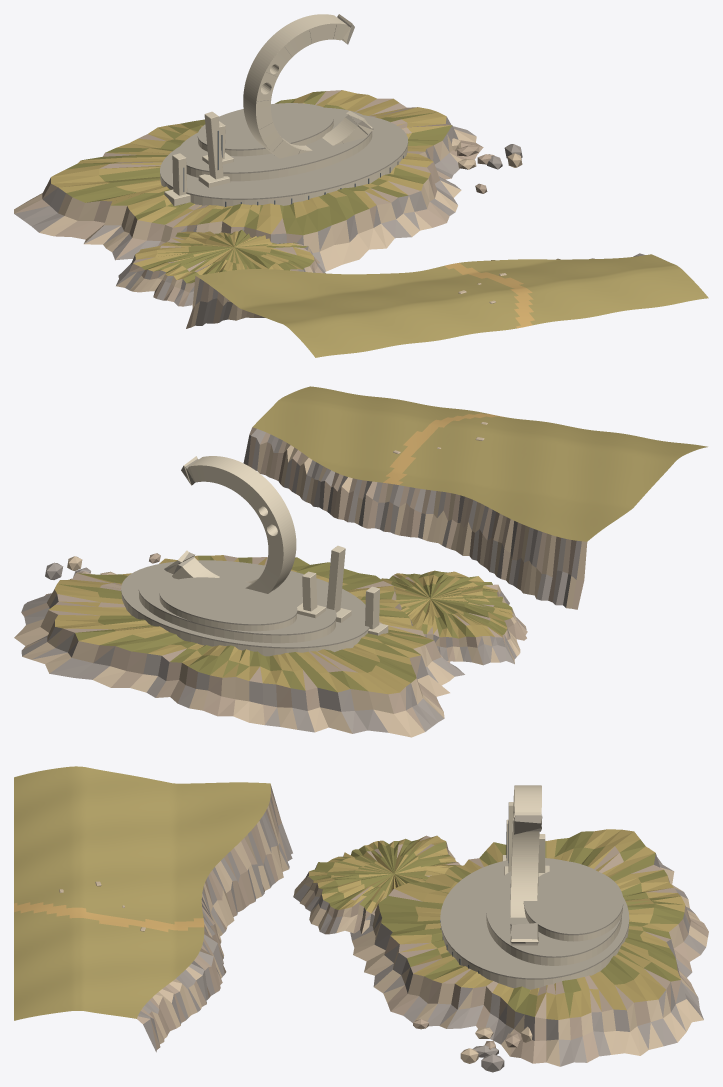
The model's file is title_coast.glb.
3 views of the same model, one above another, from view 1: azimuth 30°, elevation 25°; view 2: azimuth 150°, elevation 25°; view 3: azimuth 270°, elevation 25° (orthographic). The views are drawn at different scales.
Visible parts, largest first — view 1: Layered rocky headland, TitleMeadow, Low approach spur, Broken observation ring, Roof seam, Roof seam.002, Roof seam.001, Foreland strata, Terraced concrete podium, Terraced concrete podium.001, Split buttress, Split buttress.001 (+1 smaller); view 2: Layered rocky headland, TitleMeadow, Foreland strata, Low approach spur, Broken observation ring, Roof seam.002, Roof seam, Roof seam.001, Terraced concrete podium.001, Terraced concrete podium, Split buttress, Terraced concrete podium.002 (+2 smaller); view 3: TitleMeadow, Layered rocky headland, Foreland strata, Low approach spur, Roof seam, Roof seam.002, Broken observation ring, Roof seam.001, Terraced concrete podium, Terraced concrete podium.001, Terraced concrete podium.002.
Boxes of the visible parts, x1,y1,x2,y2 form: Layered rocky headland: (14, 90, 483, 271); TitleMeadow: (196, 254, 708, 357); Low approach spur: (116, 230, 325, 306); Broken observation ring: (243, 14, 373, 158); Roof seam: (160, 115, 408, 199); Roof seam.002: (197, 103, 333, 150); Roof seam.001: (177, 107, 372, 173); Foreland strata: (186, 253, 645, 328); Terraced concrete podium: (160, 146, 407, 206); Terraced concrete podium.001: (186, 131, 372, 181); Split buttress: (204, 111, 223, 179); Split buttress.001: (172, 153, 187, 195); Layered rocky headland: (14, 555, 464, 737); TitleMeadow: (252, 386, 707, 541); Foreland strata: (243, 427, 587, 609); Low approach spur: (381, 570, 527, 665); Broken observation ring: (164, 456, 296, 593); Roof seam.002: (159, 577, 297, 625); Roof seam: (121, 560, 369, 648); Roof seam.001: (138, 568, 336, 635); Terraced concrete podium.001: (139, 592, 335, 643); Terraced concrete podium: (121, 594, 367, 656); Split buttress: (326, 545, 345, 612); Terraced concrete podium.002: (159, 596, 296, 631); TitleMeadow: (14, 766, 270, 1020); Layered rocky headland: (350, 829, 708, 1066); Foreland strata: (137, 784, 292, 1052); Low approach spur: (293, 835, 461, 934); Roof seam: (440, 858, 629, 979); Roof seam.002: (523, 867, 623, 935); Broken observation ring: (510, 785, 542, 945); Roof seam.001: (486, 860, 621, 957); Terraced concrete podium: (441, 925, 628, 989); Terraced concrete podium.001: (486, 916, 621, 965); Terraced concrete podium.002: (524, 907, 622, 941).
Bounding box in the file's own units: 55.93 × 21.17 × 71.67.
